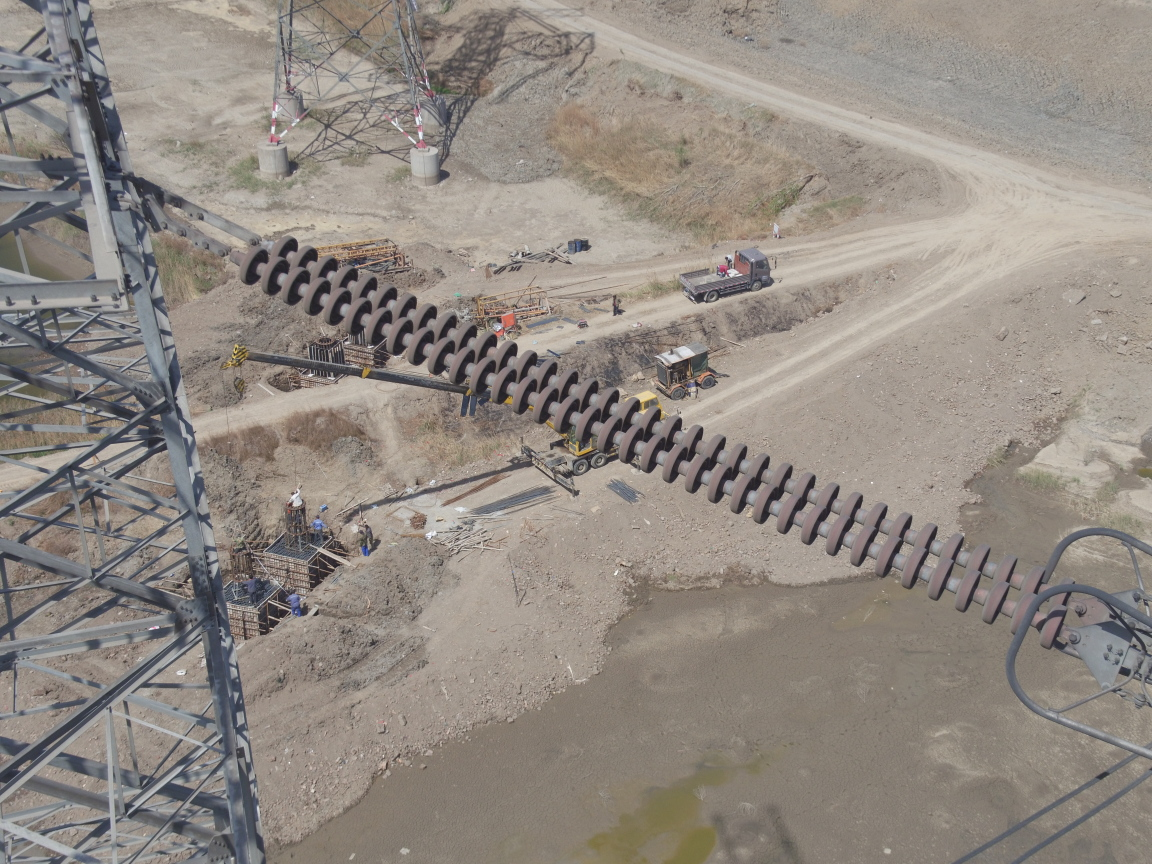insulator: (172, 223, 1115, 664)
